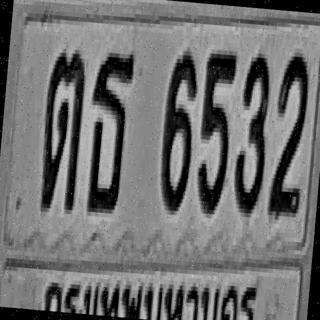A21: (36, 46, 88, 212)
A24: (82, 48, 134, 214)
N02: (267, 51, 311, 217)
N03: (231, 50, 274, 216)
N05: (193, 49, 237, 215)
N06: (157, 48, 200, 214)
